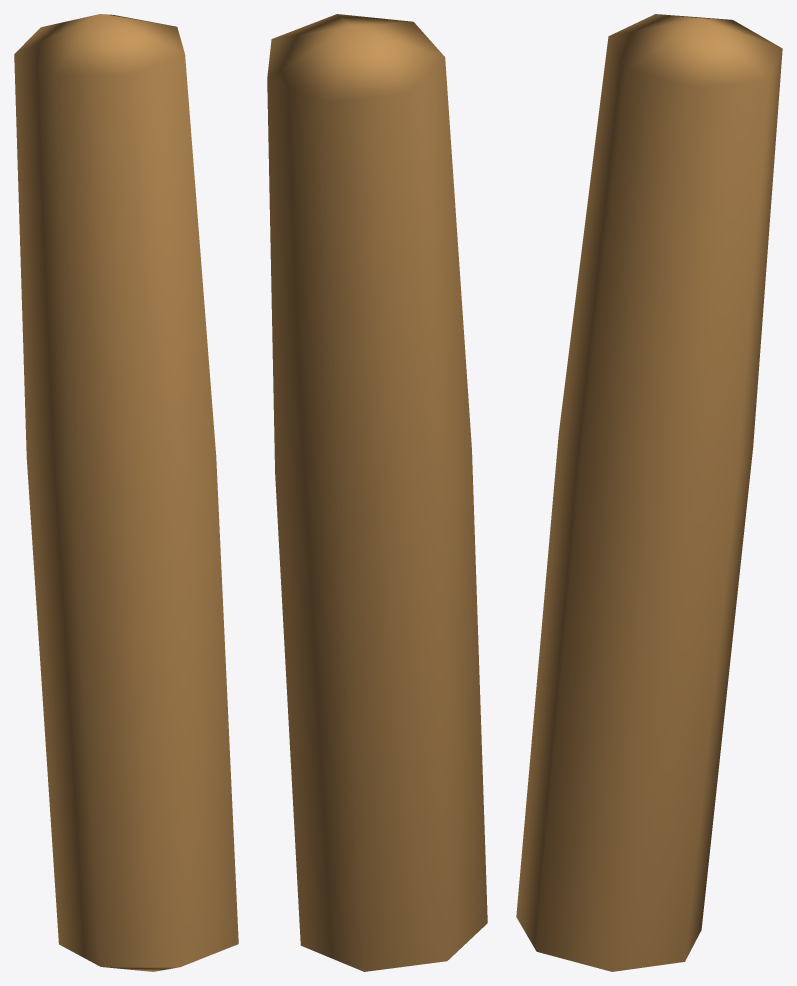
Rendered from claw_T1_left_leg.obj.
3 renders of one model, left to right at view 1: azimuth 30°, elevation 25°; view 2: azimuth 150°, elevation 25°; view 3: azimuth 270°, elevation 25°, orthographic. The views are drawn at different scales.
Bounding box in the file's own units: 0.00208 × 0.0113 × 0.00289.
